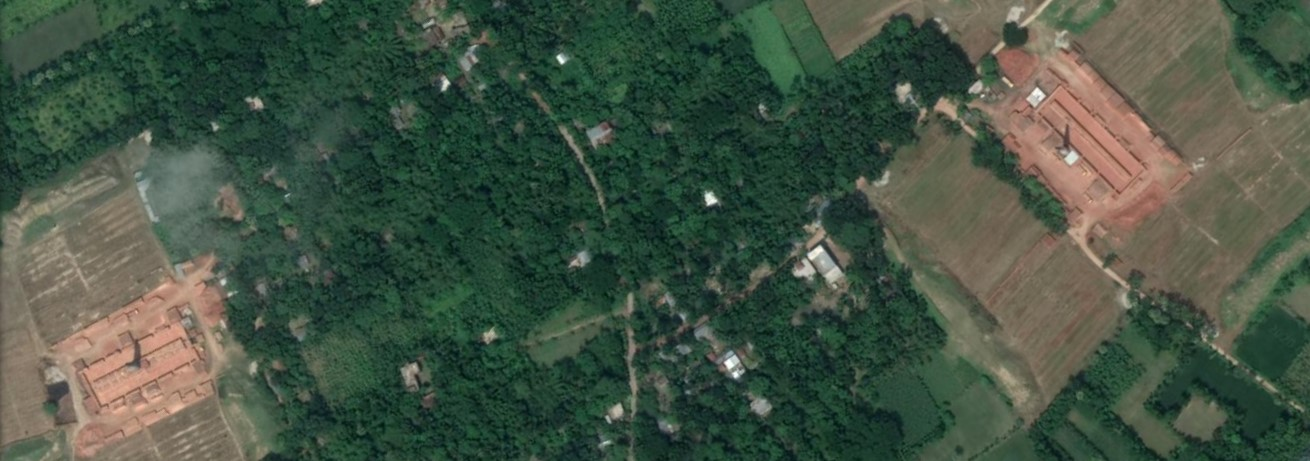kiln: (79, 297, 205, 410), (1020, 69, 1139, 172)
